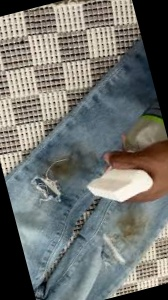earth: (114, 209, 141, 239), (48, 156, 81, 179)
